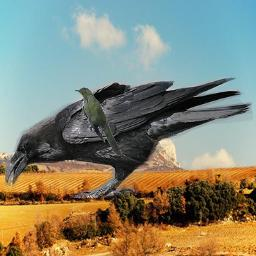Crow: (5, 77, 253, 198)
Cuckoo: (75, 87, 124, 156)
